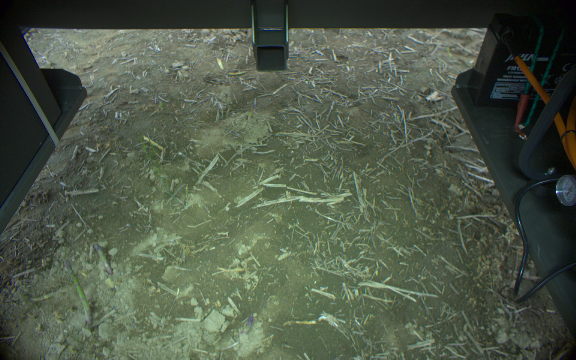aspa: (61, 259, 93, 326), (94, 240, 116, 276)
